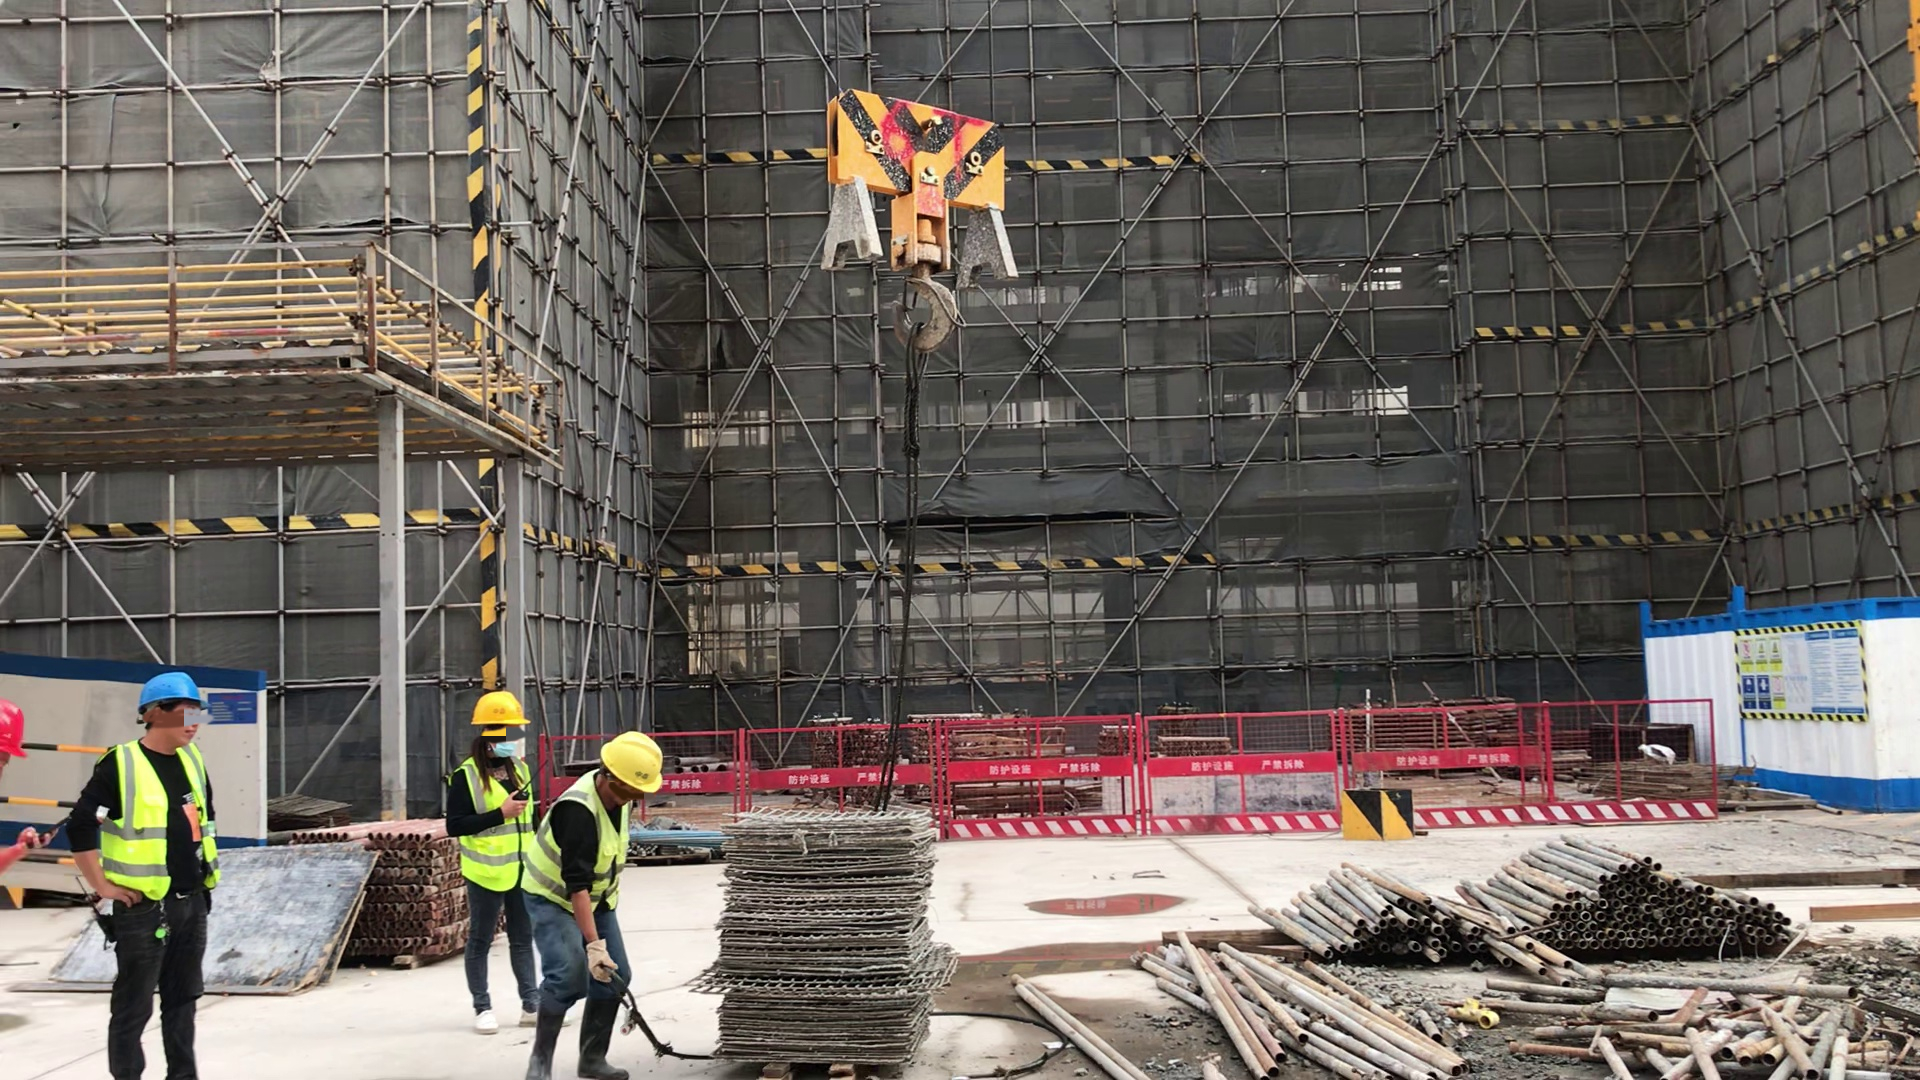fence: (677, 700, 1715, 829)
helmet: (600, 731, 664, 791), (136, 672, 212, 715), (471, 694, 531, 728), (1, 701, 29, 759)
hook: (816, 89, 1021, 358)
person: (75, 672, 211, 1080), (527, 729, 665, 1080), (442, 693, 546, 1031)
scaffold: (311, 820, 469, 973)
slogan: (1736, 637, 1796, 716)
vest: (102, 739, 219, 899), (524, 773, 627, 912), (455, 768, 538, 888)
